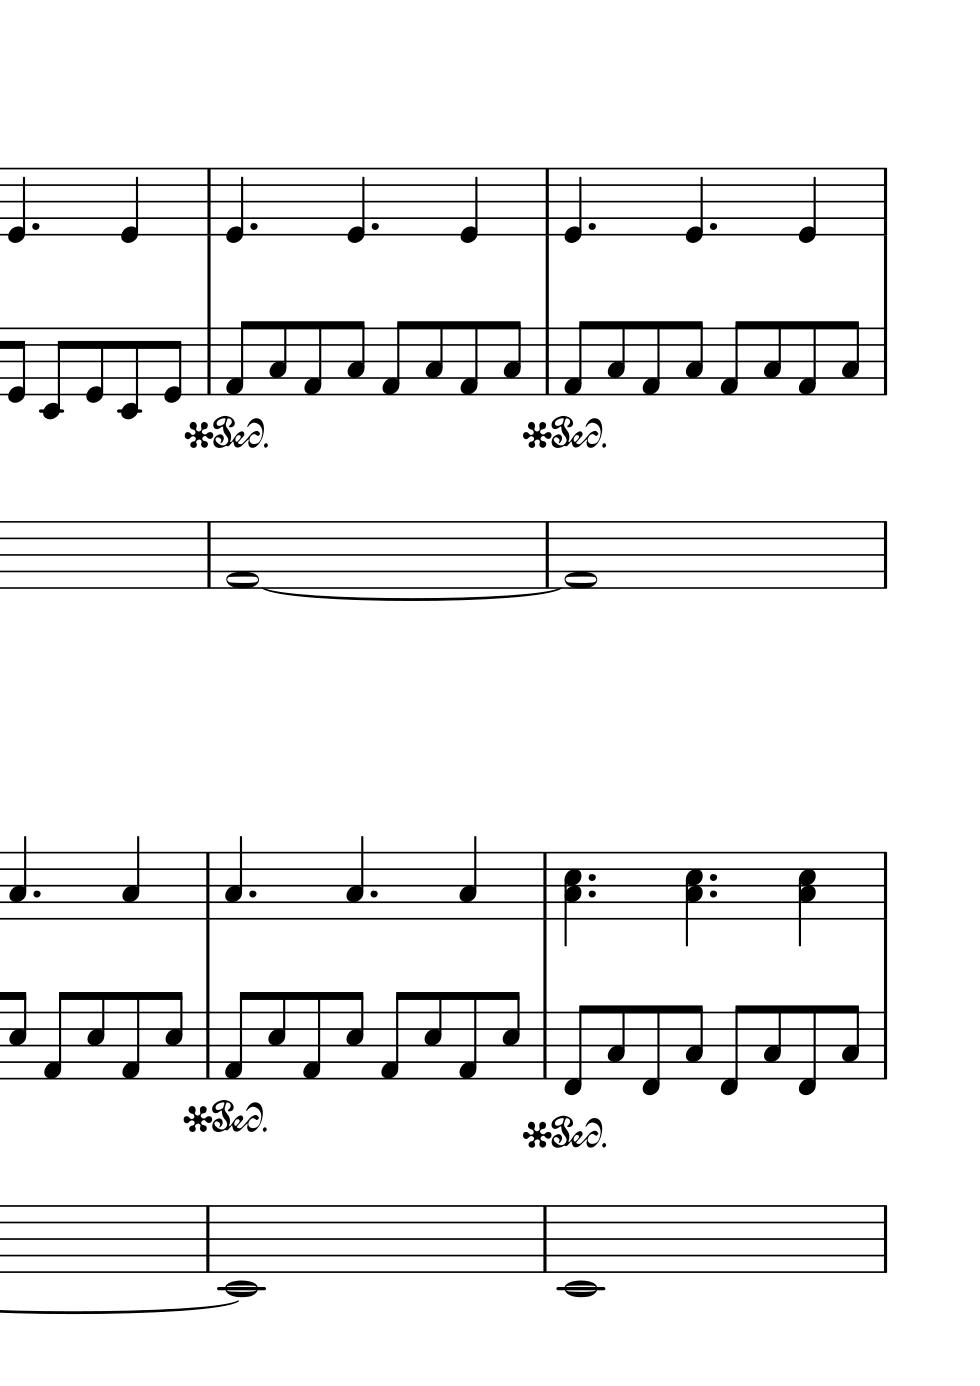1_-2: (562, 1203, 600, 1302), (224, 1201, 262, 1300)
1_1: (225, 519, 260, 594), (564, 519, 599, 593)
4_0: (794, 165, 820, 245), (117, 165, 141, 245), (682, 165, 705, 245), (223, 165, 246, 244), (344, 165, 367, 244), (562, 165, 585, 244), (458, 165, 480, 245), (6, 166, 28, 244)
4_3: (6, 834, 29, 922), (120, 834, 142, 922), (223, 834, 245, 922), (344, 834, 366, 922), (457, 834, 478, 922)
8_-1: (717, 1003, 747, 1096), (562, 1002, 590, 1096), (640, 1003, 662, 1096), (795, 1003, 818, 1096)
8_-2: (38, 324, 70, 420), (115, 326, 142, 420)
8_0: (83, 324, 106, 404), (161, 324, 183, 404), (7, 326, 27, 404)
8_1: (377, 990, 409, 1082), (40, 989, 70, 1082), (222, 990, 251, 1080), (118, 989, 142, 1082), (299, 989, 323, 1082), (455, 989, 479, 1082), (379, 318, 407, 397), (223, 319, 250, 398), (562, 319, 589, 397), (718, 318, 743, 396), (457, 319, 480, 397), (638, 319, 662, 397), (301, 319, 323, 397), (797, 318, 818, 397)
8_3: (501, 319, 523, 398), (344, 319, 366, 397), (423, 319, 445, 397), (605, 319, 627, 397), (605, 1004, 627, 1081), (267, 319, 288, 397), (683, 319, 704, 397), (762, 319, 783, 397), (840, 319, 861, 397), (683, 1003, 704, 1081), (762, 1003, 783, 1081), (840, 1004, 861, 1081)
8_5: (84, 989, 107, 1080), (265, 989, 287, 1081), (422, 989, 444, 1080), (343, 990, 364, 1081), (163, 990, 185, 1080), (500, 990, 521, 1080), (7, 988, 27, 1081)
Single_barline: (200, 169, 218, 235), (876, 168, 893, 235), (876, 521, 893, 589), (199, 853, 216, 920), (536, 1011, 553, 1078), (200, 521, 217, 587), (876, 853, 893, 919), (536, 854, 553, 920), (199, 1012, 216, 1078), (876, 1012, 893, 1078), (539, 170, 556, 235), (538, 522, 555, 587), (202, 328, 217, 394), (539, 328, 555, 394), (876, 328, 892, 394), (877, 1205, 893, 1271), (200, 1205, 215, 1271), (537, 1206, 552, 1271)
Slur: (262, 590, 558, 603)
dot: (246, 220, 260, 234), (585, 220, 599, 234), (706, 870, 720, 884), (585, 888, 599, 901), (29, 220, 41, 234), (368, 220, 381, 234), (706, 220, 719, 234), (585, 870, 598, 884), (246, 887, 259, 901), (707, 887, 720, 901), (30, 888, 42, 901), (367, 887, 379, 901)
